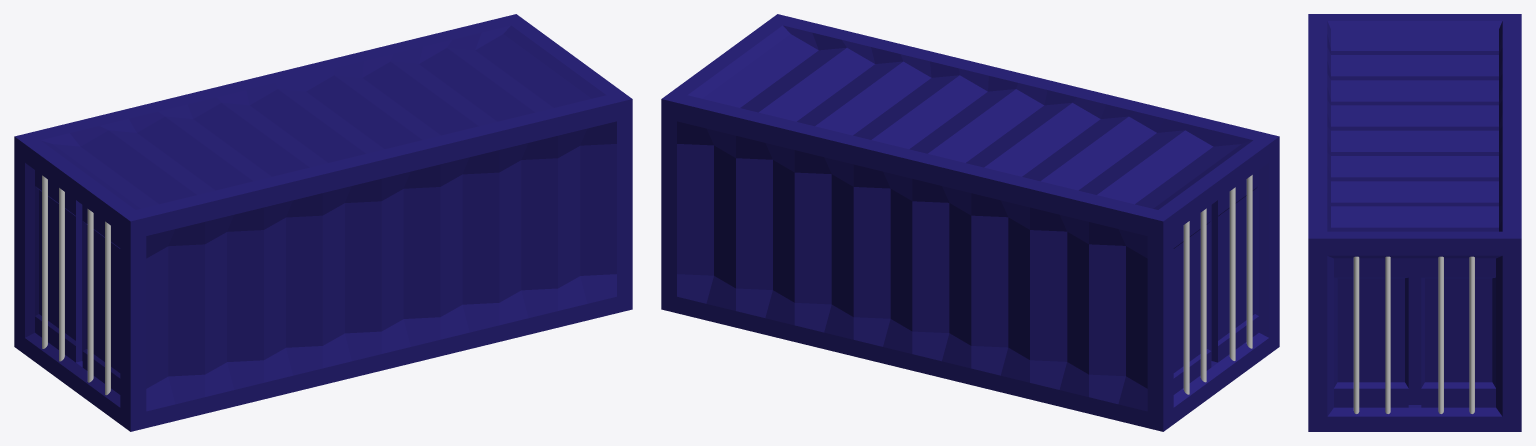
The model's file is blue_container.fbx.
3 views of the same model, side by side, from view 1: azimuth 30°, elevation 25°; view 2: azimuth 150°, elevation 25°; view 3: azimuth 270°, elevation 25° (orthographic). The views are drawn at different scales.
Parts seen in each view (by area): view 1: Cube, Cylinder.002, Cylinder, Cylinder.003, Cylinder.001; view 2: Cube, Cylinder.002, Cylinder, Cylinder.001, Cylinder.003; view 3: Cube, Cylinder.004, Cylinder.005, Cylinder.006, Cylinder.007.
Part boxes in pixels (x1=…): Cube: x1=14, y1=14, x2=632, y2=431; Cylinder.002: x1=87, y1=209, x2=93, y2=382; Cylinder: x1=59, y1=188, x2=64, y2=361; Cylinder.003: x1=105, y1=221, x2=110, y2=395; Cylinder.001: x1=42, y1=175, x2=47, y2=348; Cube: x1=661, y1=14, x2=1279, y2=431; Cylinder.002: x1=1229, y1=187, x2=1235, y2=360; Cylinder: x1=1200, y1=208, x2=1206, y2=382; Cylinder.001: x1=1183, y1=221, x2=1189, y2=394; Cylinder.003: x1=1246, y1=175, x2=1252, y2=348; Cube: x1=1308, y1=14, x2=1521, y2=431; Cylinder.004: x1=1353, y1=256, x2=1359, y2=413; Cylinder.005: x1=1385, y1=256, x2=1390, y2=413; Cylinder.006: x1=1469, y1=256, x2=1474, y2=413; Cylinder.007: x1=1438, y1=256, x2=1443, y2=413.
Size of the model in its own units: 4.99 by 2 by 2.
